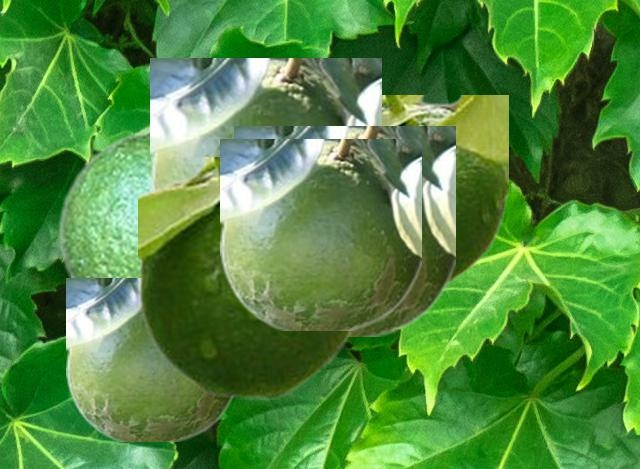dalandan: (138, 157, 356, 398), (234, 126, 454, 335), (220, 139, 420, 329), (150, 58, 380, 187), (66, 278, 233, 440), (381, 95, 507, 287), (56, 120, 149, 279)
